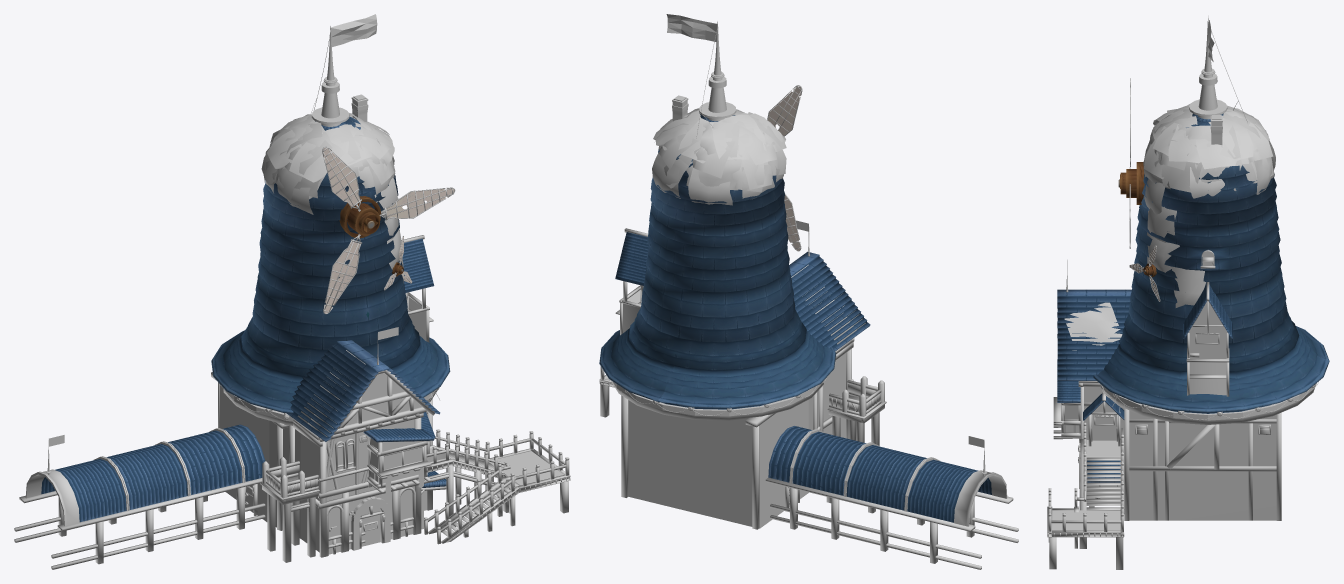
The model's file is Windmil_1025.fbx.
3 renders of one model, left to right at view 1: azimuth 30°, elevation 25°; view 2: azimuth 150°, elevation 25°; view 3: azimuth 270°, elevation 25°, orthographic. The views are drawn at different scales.
Parts seen in each view (by area): view 1: WindMill; view 2: WindMill; view 3: WindMill.
Part boxes in pixels (x1=…): WindMill: x1=14, y1=14, x2=570, y2=569; WindMill: x1=599, y1=14, x2=1018, y2=569; WindMill: x1=1047, y1=15, x2=1329, y2=569.
Bounding box in the file's own units: 3072 × 3068 × 1644.
